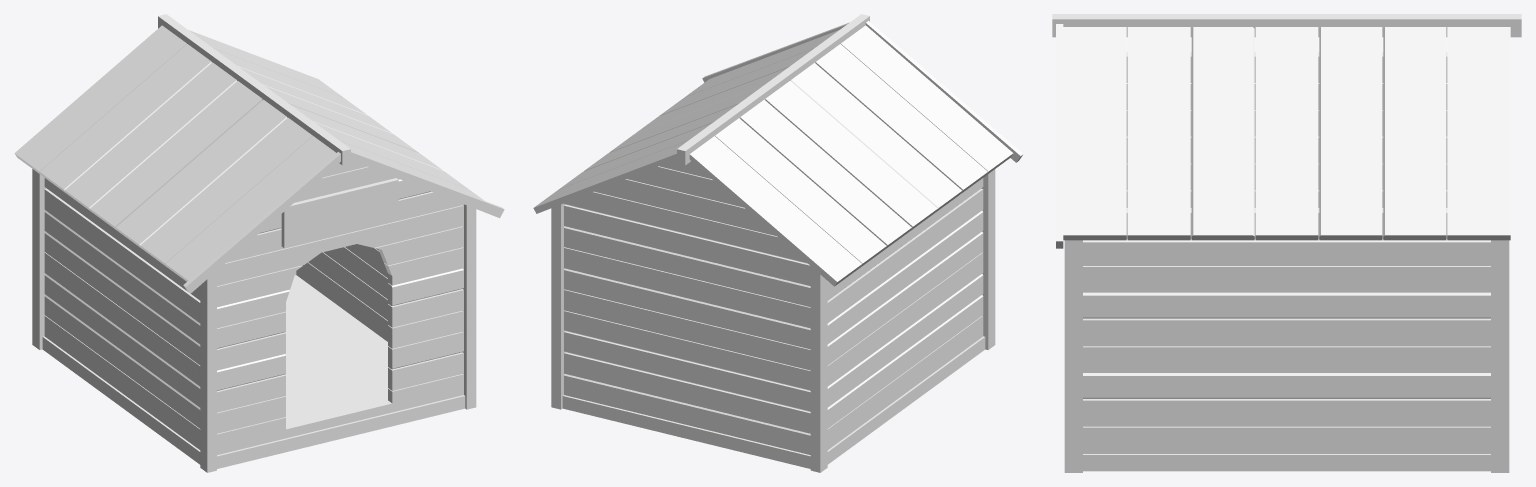
Rendered from Bld_Doghouse_Large_01.glb.
3 views of the same model, side by side, from view 1: azimuth 30°, elevation 25°; view 2: azimuth 150°, elevation 25°; view 3: azimuth 270°, elevation 25° (orthographic). The views are drawn at different scales.
Parts seen in each view (by area): view 1: Bld_Doghouse_Large_01; view 2: Bld_Doghouse_Large_01; view 3: Bld_Doghouse_Large_01.
Part boxes in pixels (<box>): Bld_Doghouse_Large_01: <box>14,14,504,472</box>; Bld_Doghouse_Large_01: <box>533,14,1023,472</box>; Bld_Doghouse_Large_01: <box>1052,14,1521,472</box>.
Bounding box in the file's own units: 1.12 × 0.9881 × 1.13.
Materials: 1 (1 with a texture image).
